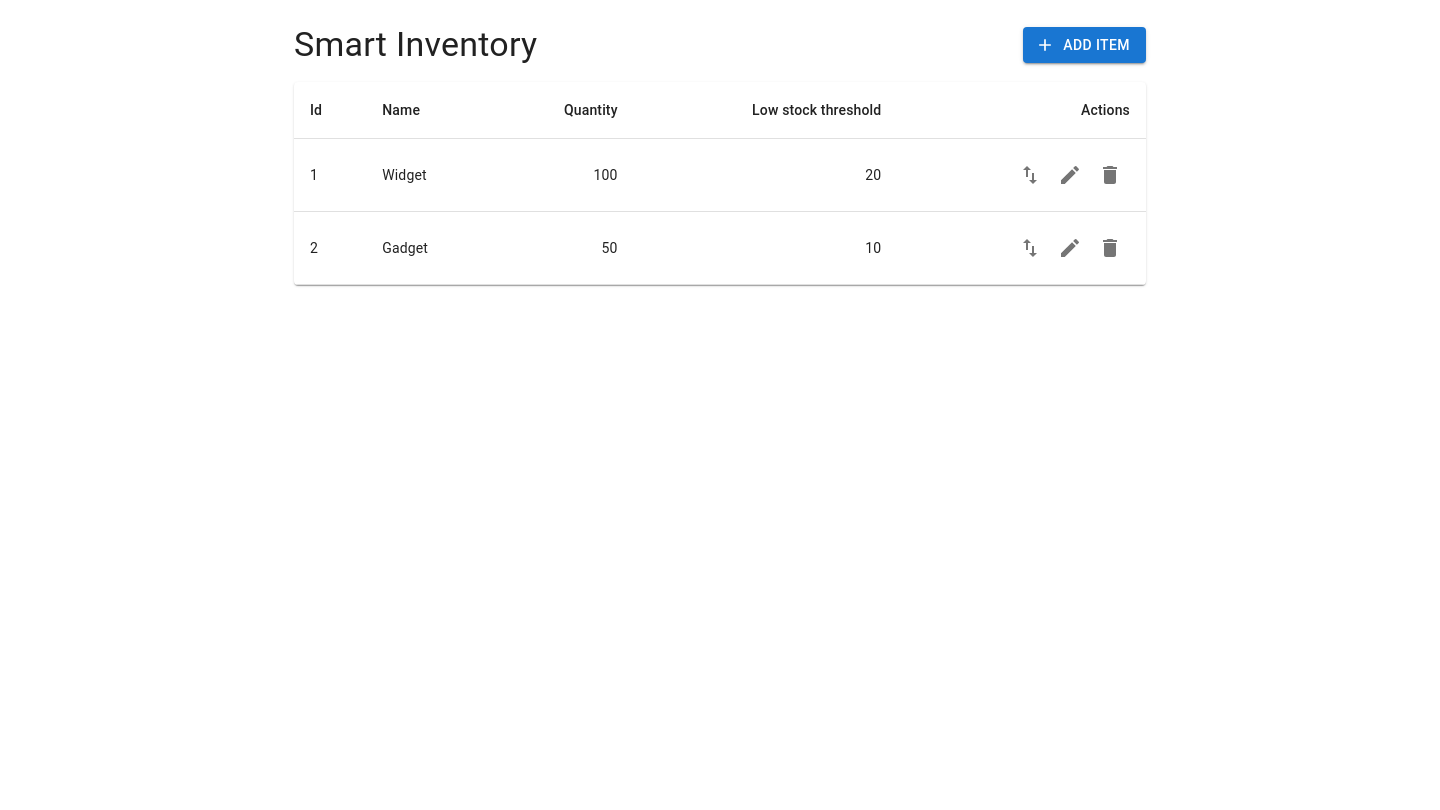
Scenario: InventoryPage › removes an item from the table after deletion is confirmed
Click the button named "Delete Widget". click: (1110, 175)
box: [1090, 155, 1130, 195]
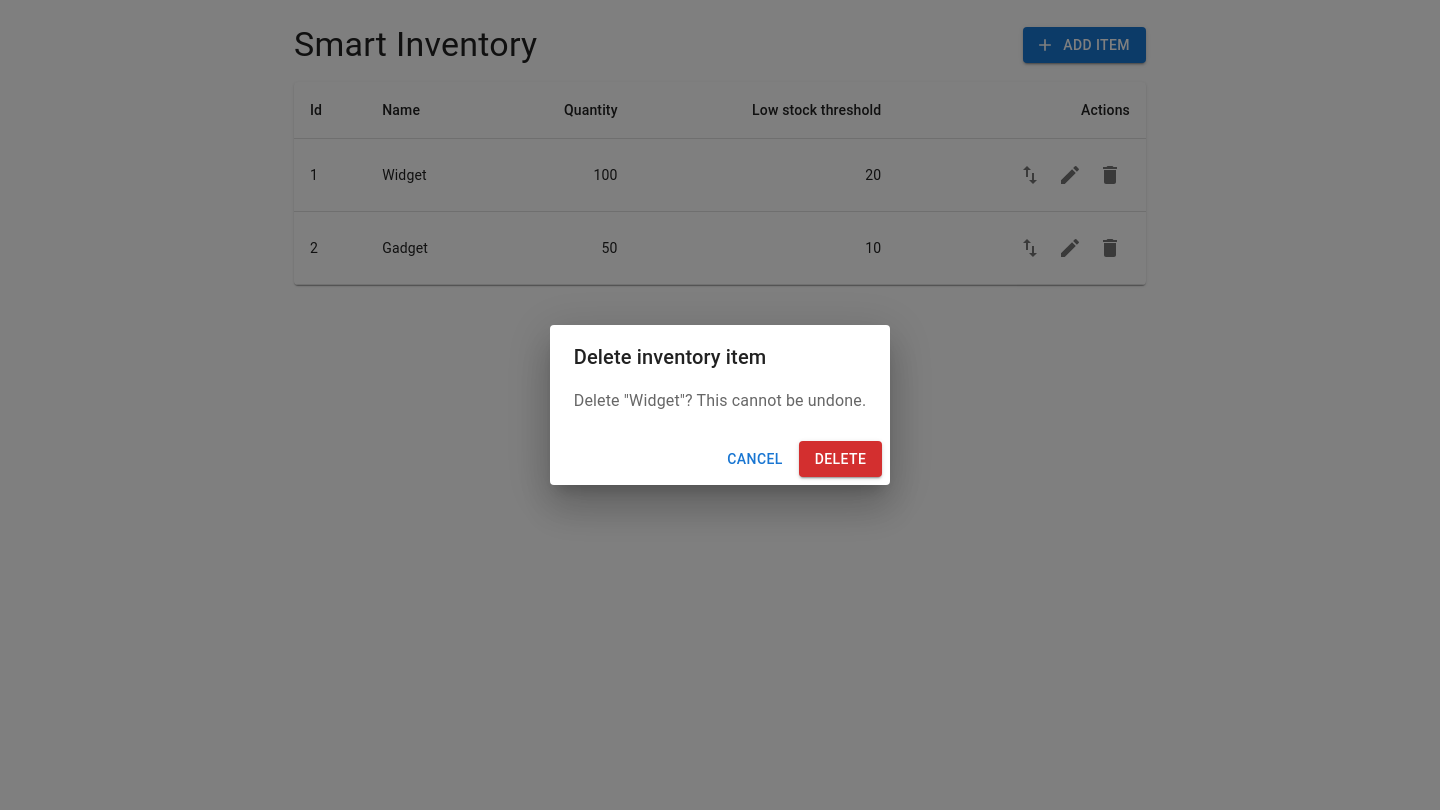
Click the button "Delete". click: (840, 459)
box: [799, 441, 882, 477]
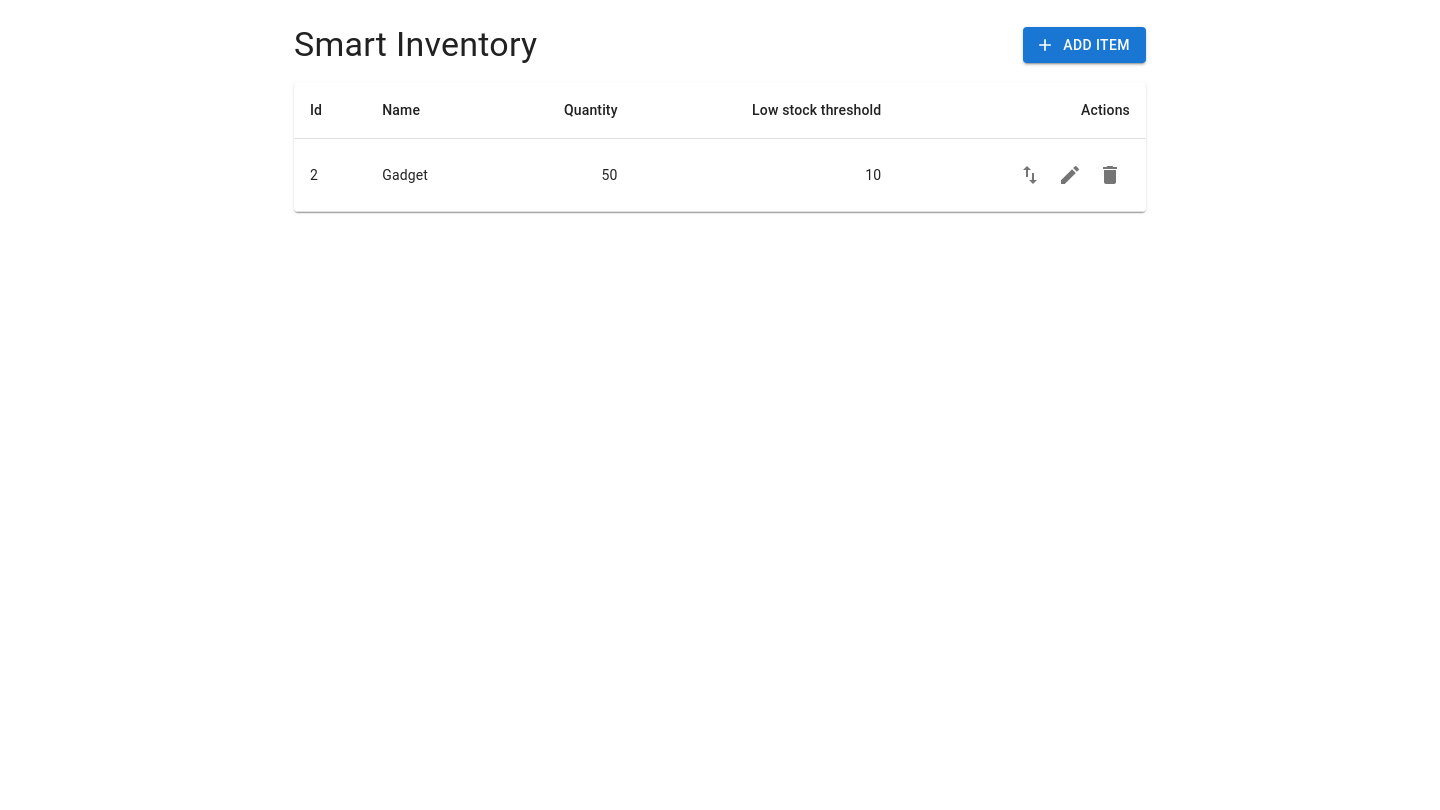
expect the text "Gadget" is shown: met, box [366, 138, 493, 212]
expect the text "Widget" is gone: met
